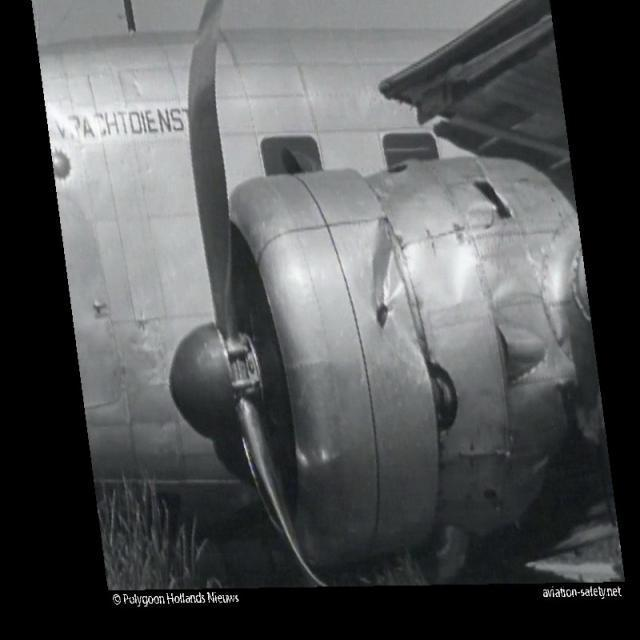dent: (357, 245, 408, 329)
